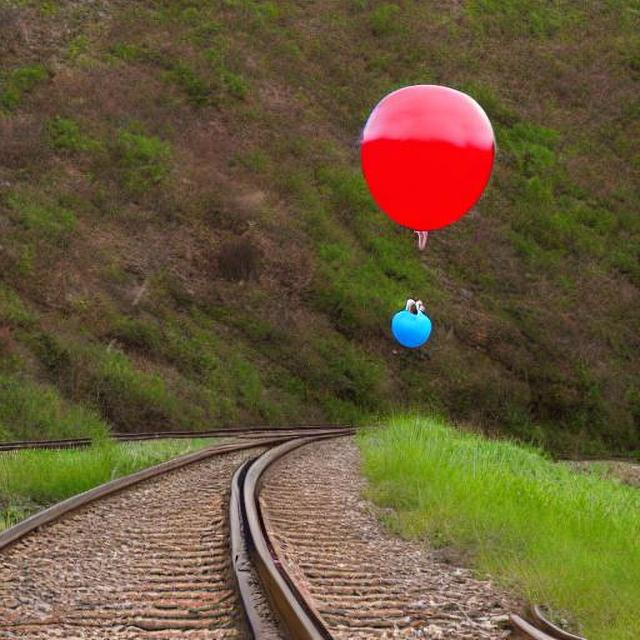balloon: (355, 82, 494, 239), (389, 299, 432, 347)
